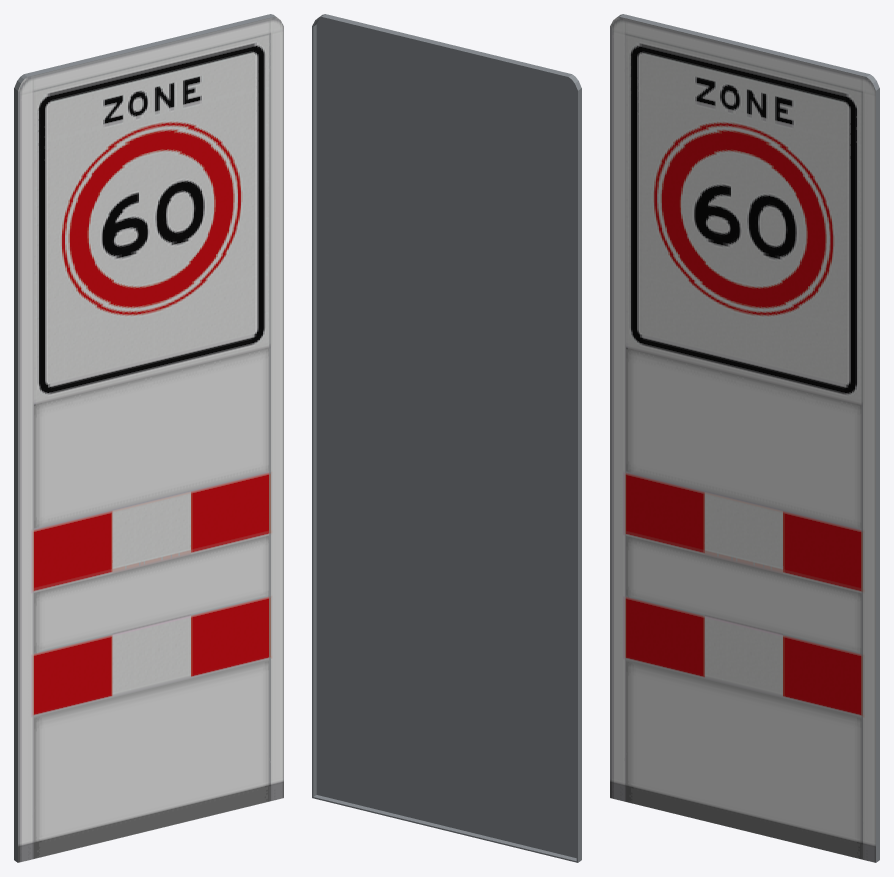
3 views of the same model, side by side, from view 1: azimuth 30°, elevation 25°; view 2: azimuth 150°, elevation 25°; view 3: azimuth 330°, elevation 25° (orthographic).
Parts seen in each view (by area): view 1: cat_c6be3dce4b19ae3e; view 2: cat_c6be3dce4b19ae3e; view 3: cat_c6be3dce4b19ae3e.
Boxes of the visible parts, <box> form: cat_c6be3dce4b19ae3e: <box>14,14,283,862</box>; cat_c6be3dce4b19ae3e: <box>312,14,581,862</box>; cat_c6be3dce4b19ae3e: <box>610,14,879,862</box>.
Bounding box in the file's own units: 0.6 × 0.015 × 1.69.
Materials: 2 (1 with a texture image).
